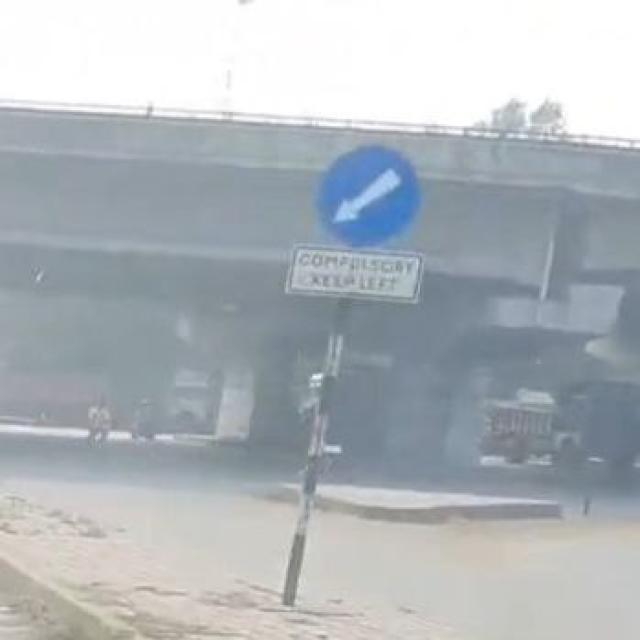compulsory_keep_left: (312, 142, 423, 246)
